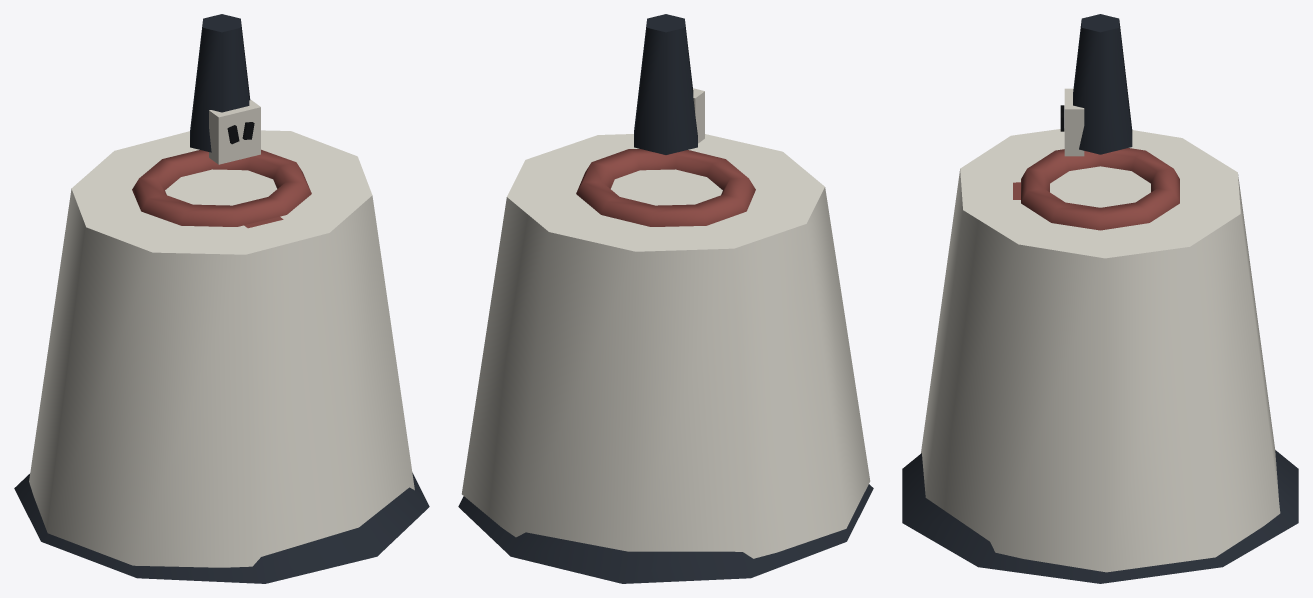
File: character-lab-bell-v1.glb
3 renders of one model, left to right at view 1: azimuth 30°, elevation 25°; view 2: azimuth 150°, elevation 25°; view 3: azimuth 270°, elevation 25°, orthographic.
Visible parts, largest first — view 1: Bell; view 2: Bell; view 3: Bell.
Part boxes in pixels (box(x1,y1,x2,y2)): Bell: box(14, 14, 429, 583); Bell: box(458, 14, 873, 583); Bell: box(902, 14, 1298, 583).
Bounding box in the file's own units: 3.84 × 4.81 × 3.65.
